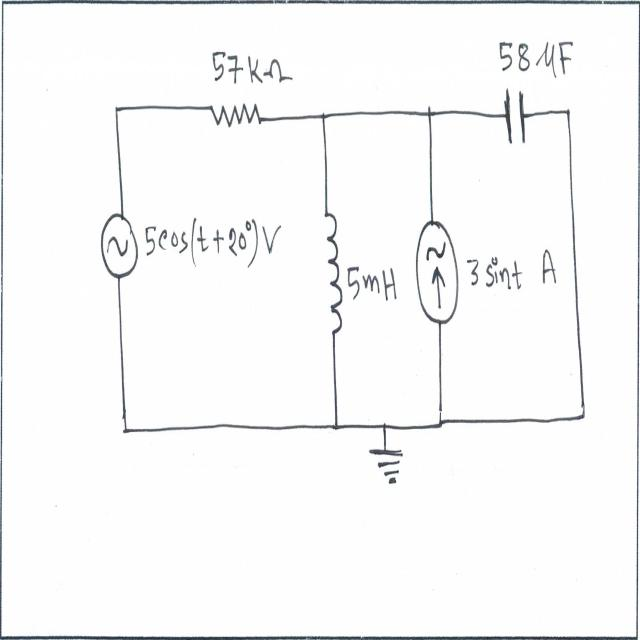capacitor: (501, 85, 530, 152)
current_source: (411, 207, 465, 335), (98, 203, 143, 283)
ground: (366, 440, 414, 492)
inductor: (320, 203, 348, 354)
resistor: (212, 91, 267, 146)
